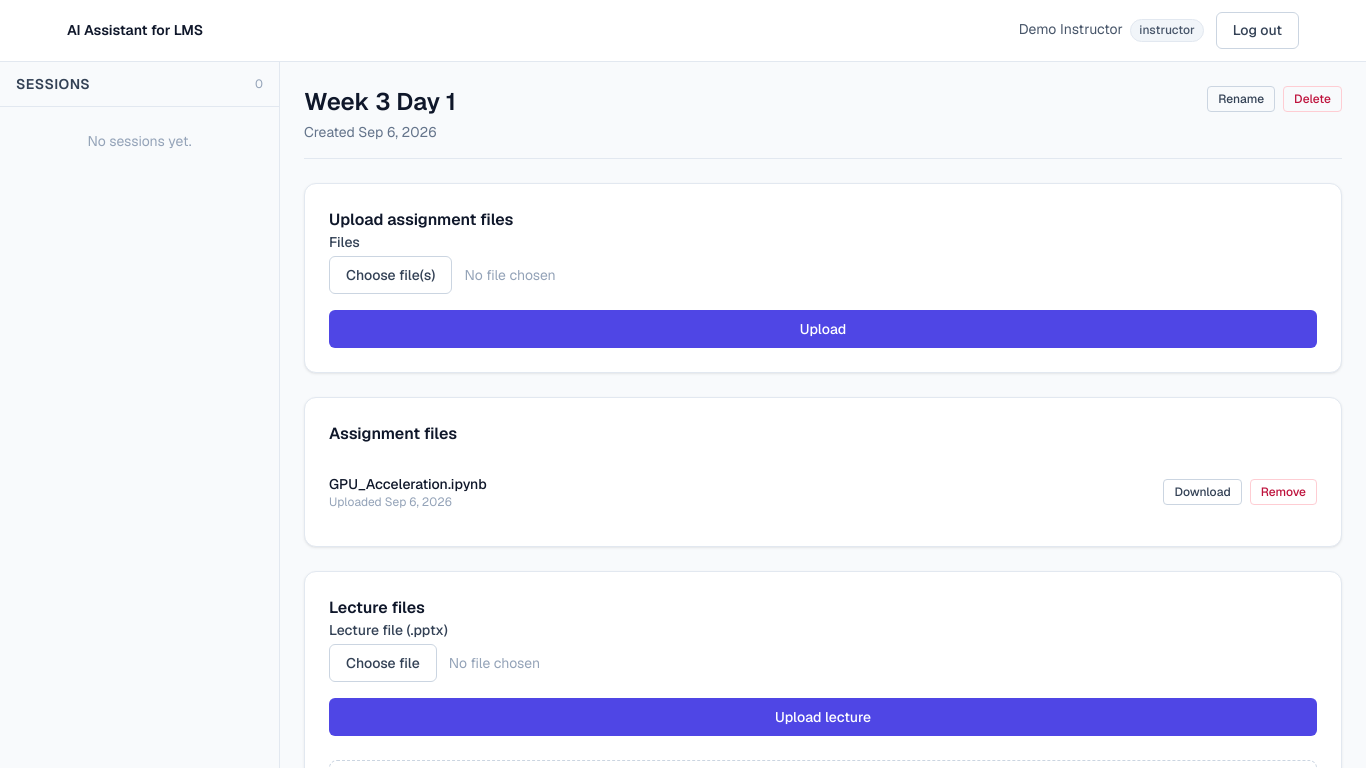
Test: <SessionDetail /> — download and remove › asks for confirmation before removing, and refreshes the list after
The image size is (1366, 768).
expect the heading "Week 3 Day 1" is shown: met, box [304,86,456,118]
Click the button "Remove" at (1283, 492), box [1250,479,1317,505]
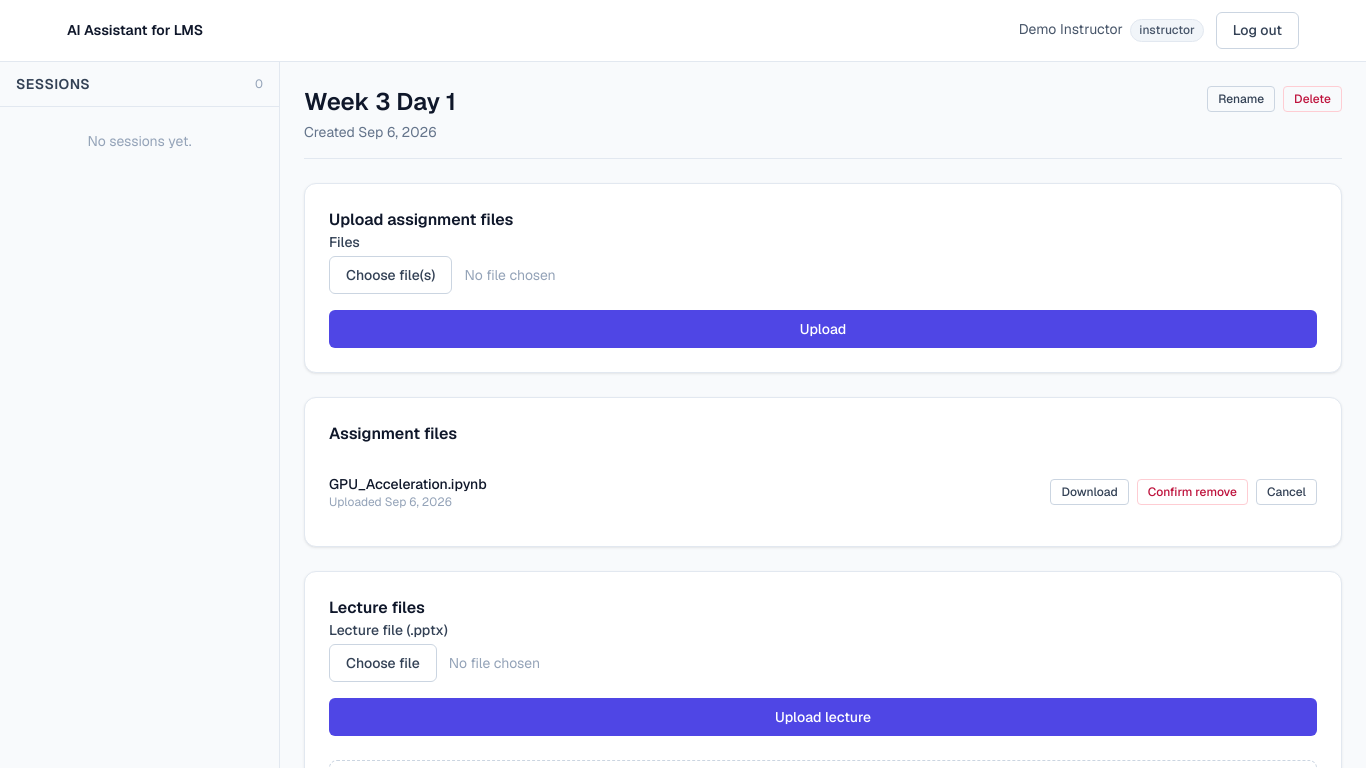
Click the button "Confirm remove" at (1192, 492), box [1137,479,1248,505]
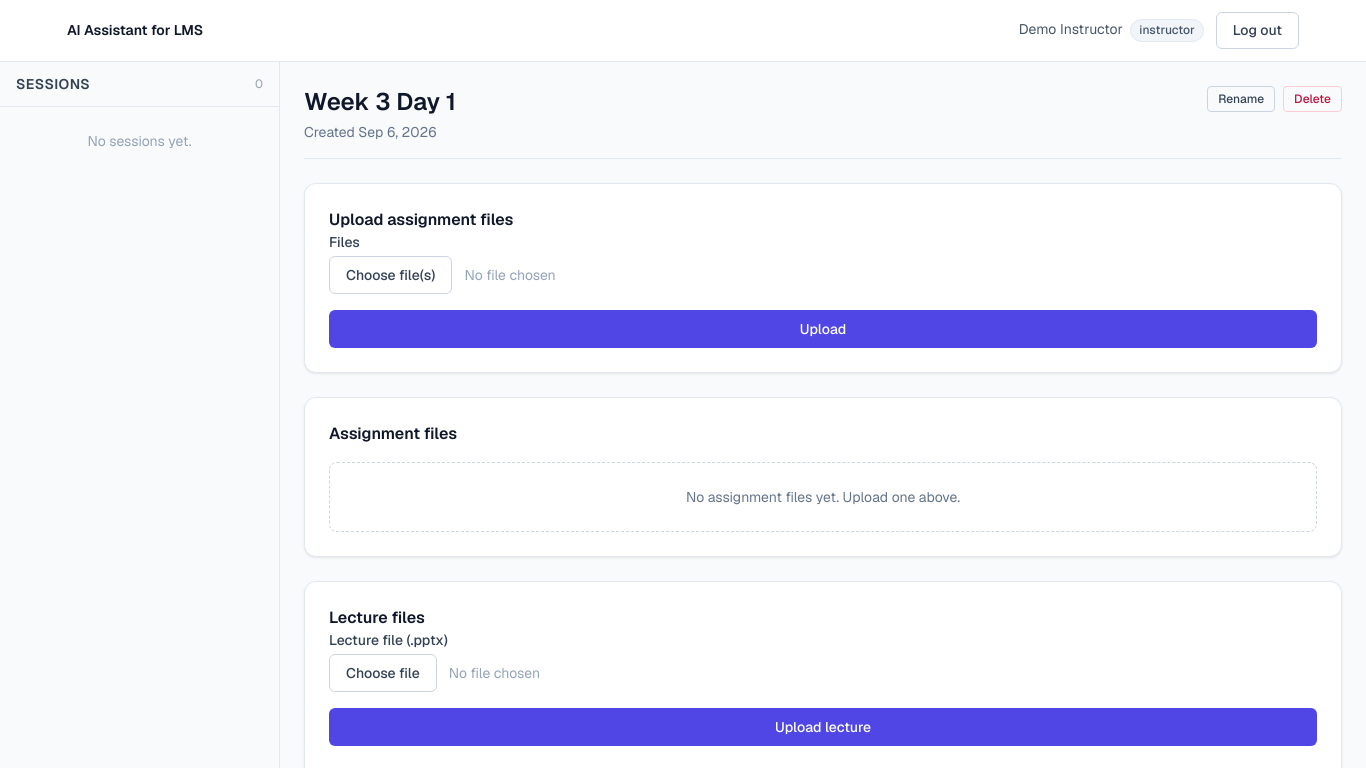
expect the text "No assignment files yet. Upload one above." is shown: met, box [329,462,1317,532]
